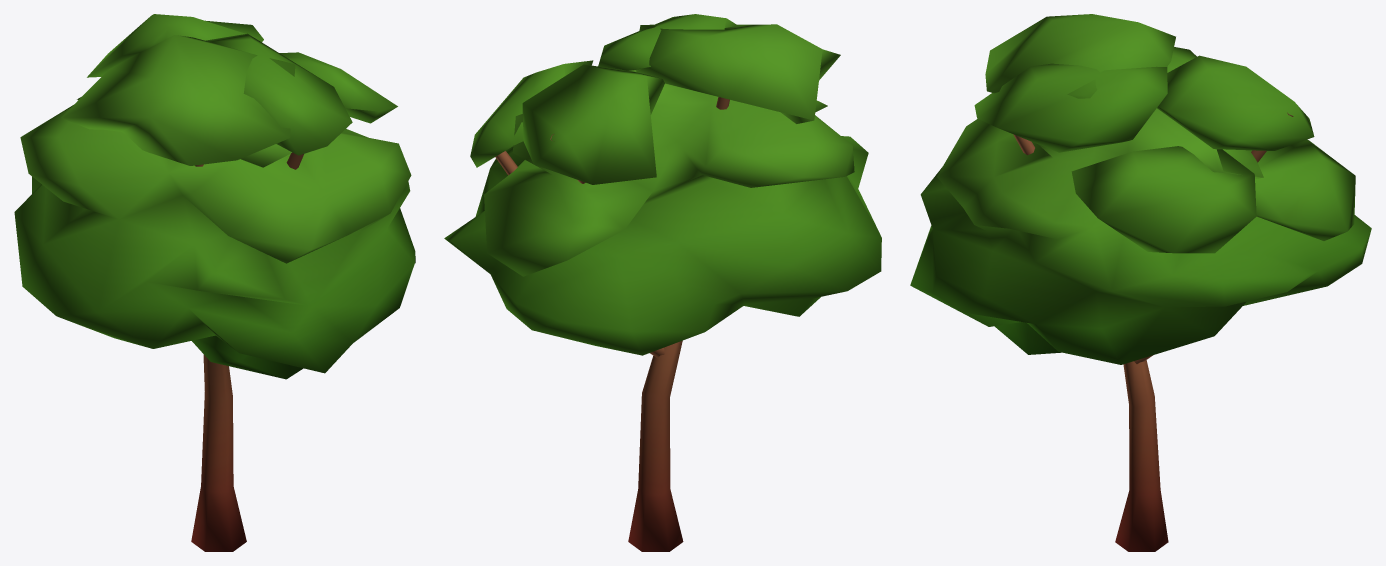
The model's file is SM_Tree_Unique_01.fbx.
The picture shows the model from 3 angles, left to right: view 1: azimuth 30°, elevation 25°; view 2: azimuth 150°, elevation 25°; view 3: azimuth 270°, elevation 25°; orthographic projection. The views are drawn at different scales.
Visible parts, largest first — view 1: SM_Tree_Unique_01; view 2: SM_Tree_Unique_01; view 3: SM_Tree_Unique_01.
Boxes of the visible parts, box(x1,y1,x2,y2) form: SM_Tree_Unique_01: box(14, 14, 415, 551); SM_Tree_Unique_01: box(444, 14, 881, 551); SM_Tree_Unique_01: box(910, 14, 1371, 551).
Size of the model in its own units: 10.46 by 14.19 by 11.92.
